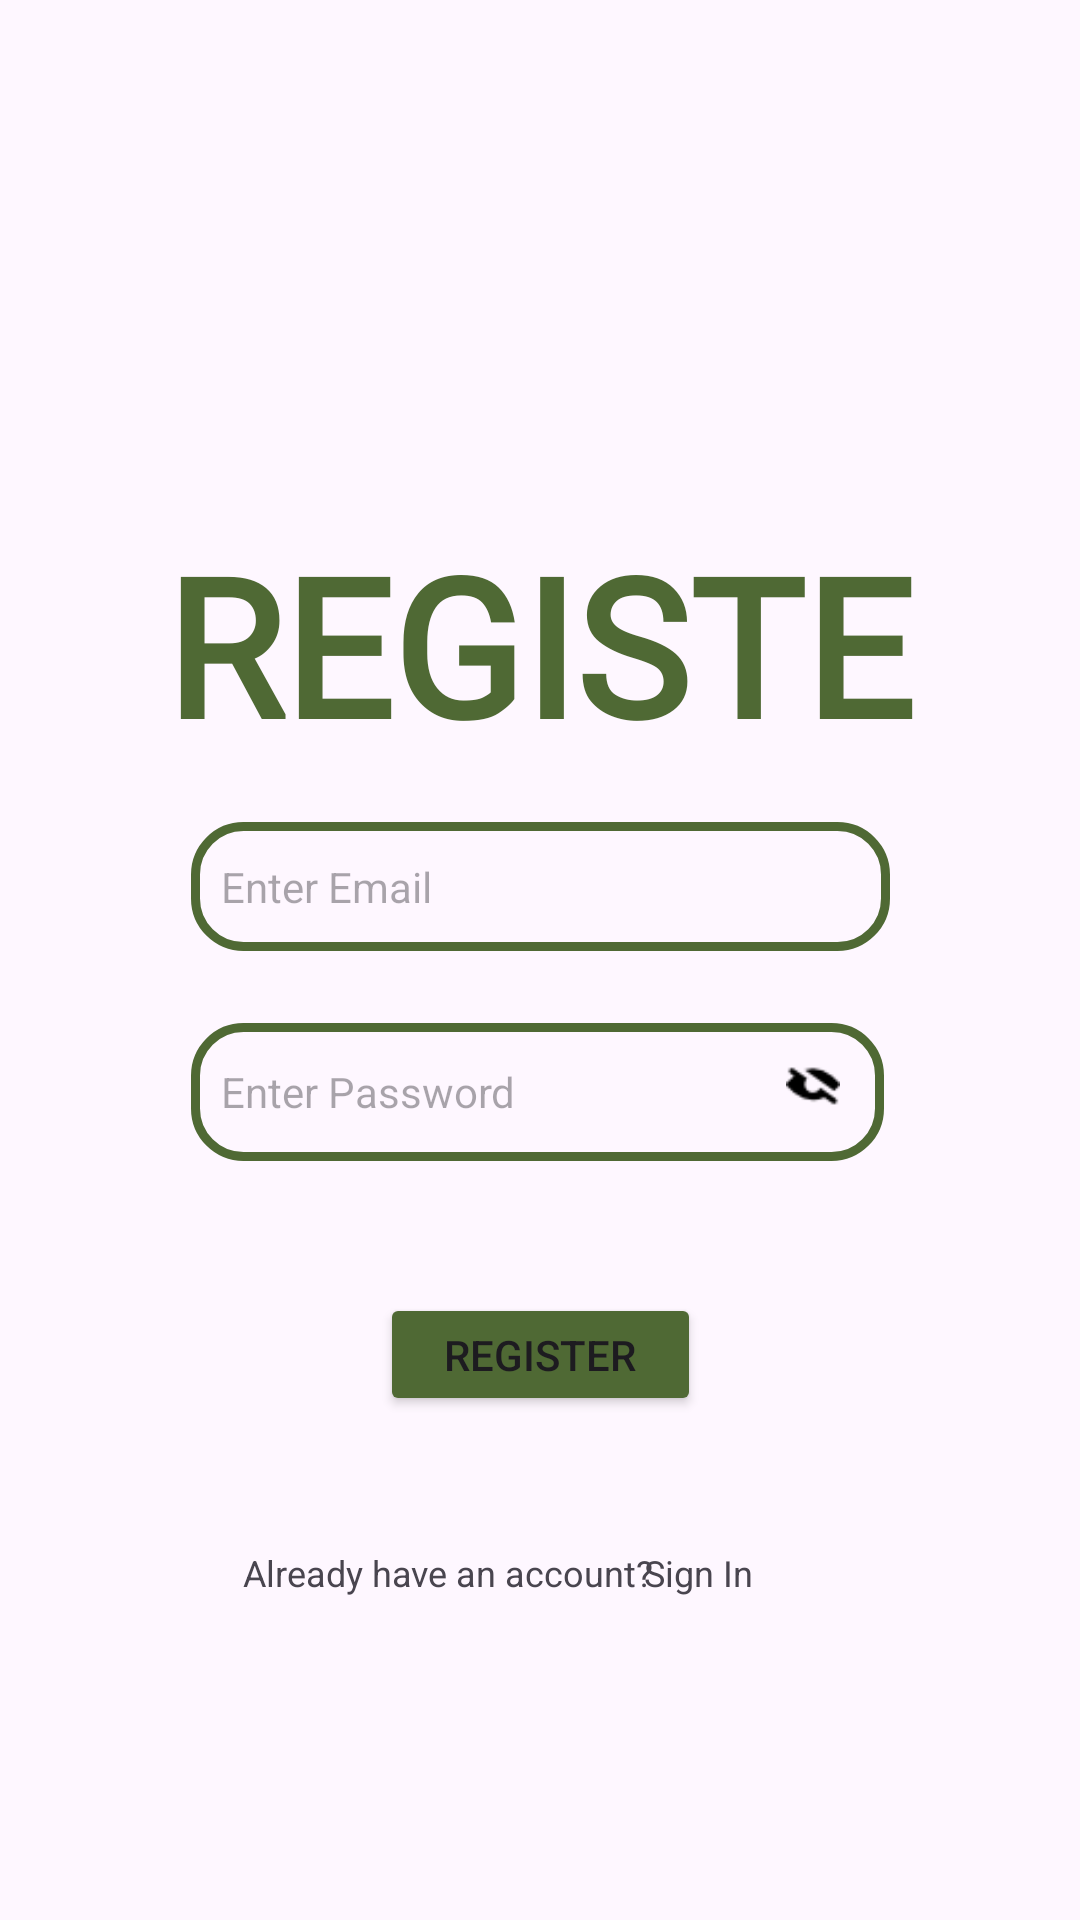

Icons on this 1080*1920 Android screen, each with the point to tap as (x=x, y=y):
visibility off: (x=813, y=1086)
